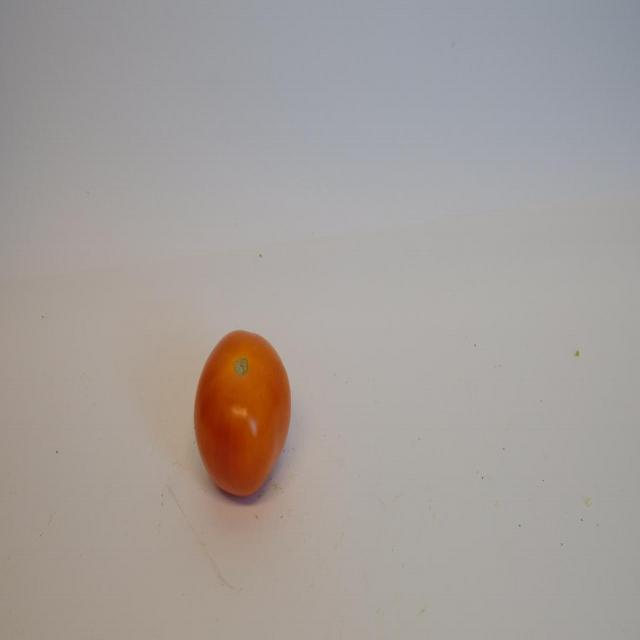tomato: (189, 313, 291, 505)
